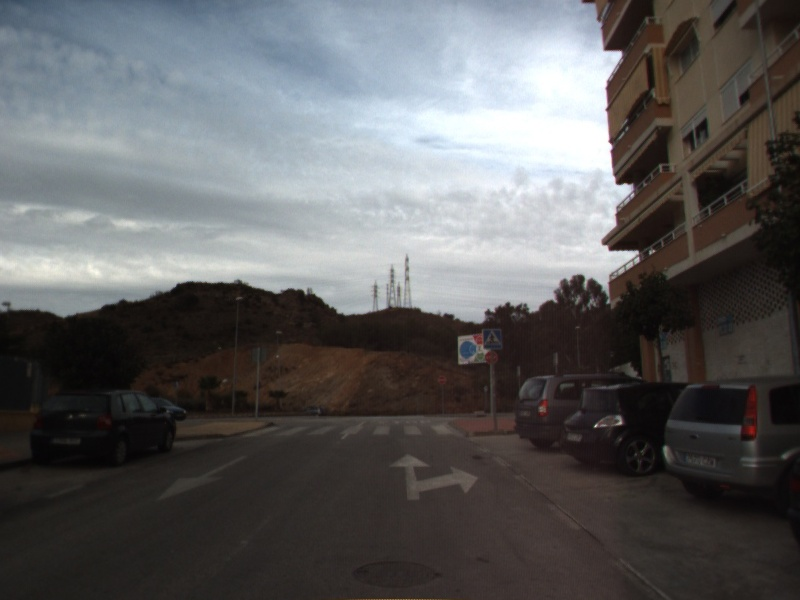STRAIGHT_RIGHT: (387, 451, 481, 503)
